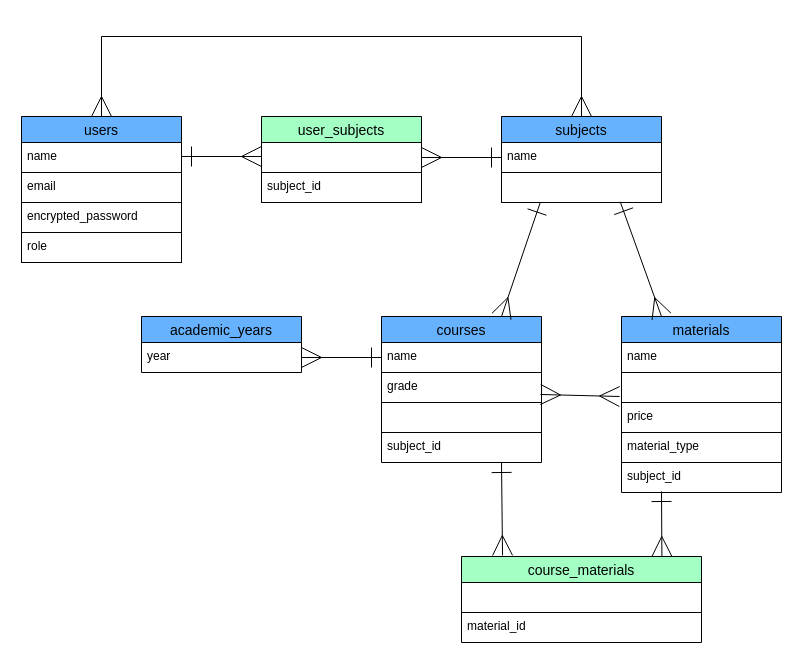
The diagram is 799 pixels wide and 663 high, and some of its shapes have lost their labels. The shapes that lost their labels are listed below. From the top down, each one's centre as x and y in pixels, then its label:
(341,157): user_id
(581,187): sort_order
(701,387): publisher
(461,417): academic_year_id
(581,597): course_id
